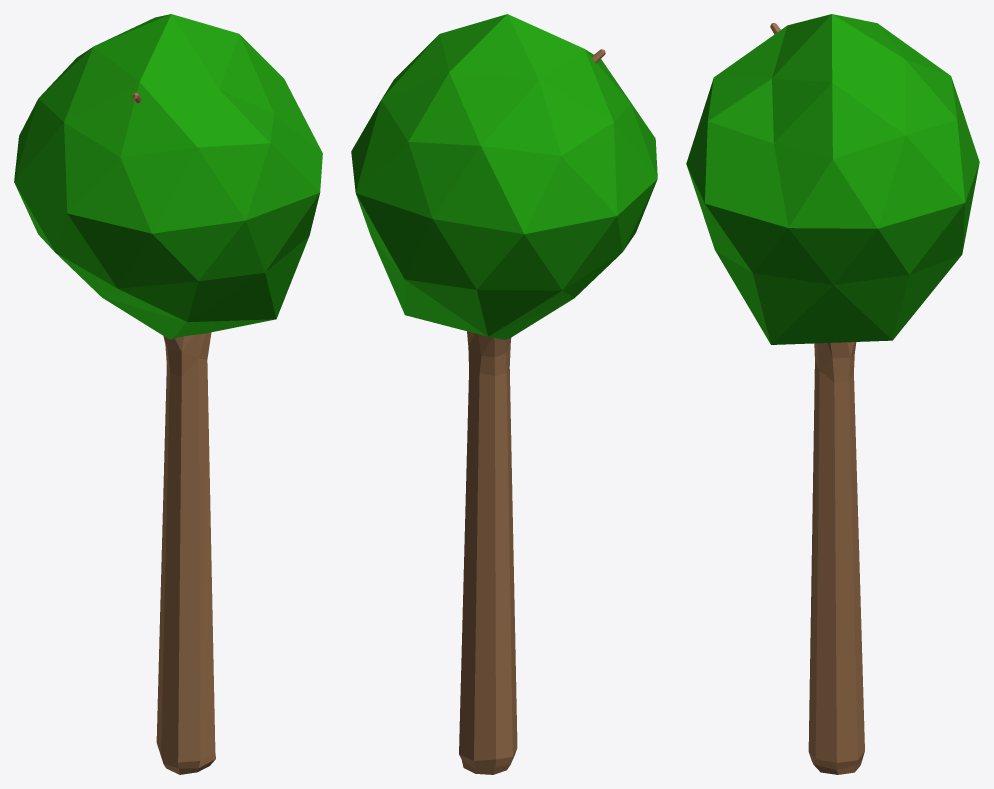
File: Tree_8.fbx
3 views of the same model, side by side, from view 1: azimuth 30°, elevation 25°; view 2: azimuth 150°, elevation 25°; view 3: azimuth 270°, elevation 25° (orthographic).
Visible parts, largest first — view 1: Tree8_mesh; view 2: Tree8_mesh; view 3: Tree8_mesh.
Part boxes in pixels (box(x1,y1,x2,y2)): Tree8_mesh: box(14, 14, 322, 774); Tree8_mesh: box(351, 14, 657, 774); Tree8_mesh: box(686, 14, 979, 774).
Bounding box in the file's own units: 207 × 560 × 200.
